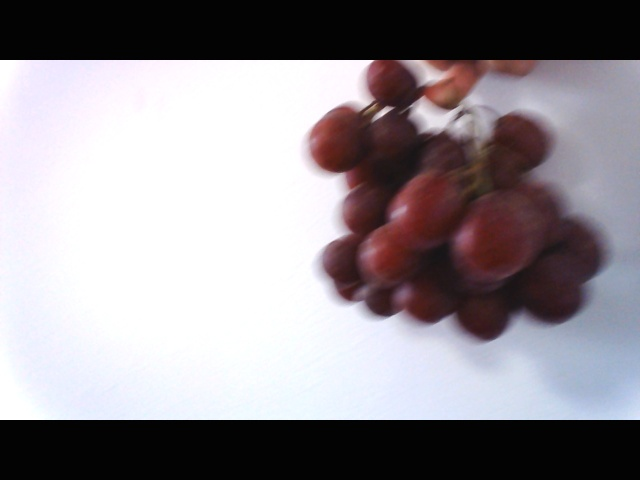grape: (295, 76, 618, 349)
